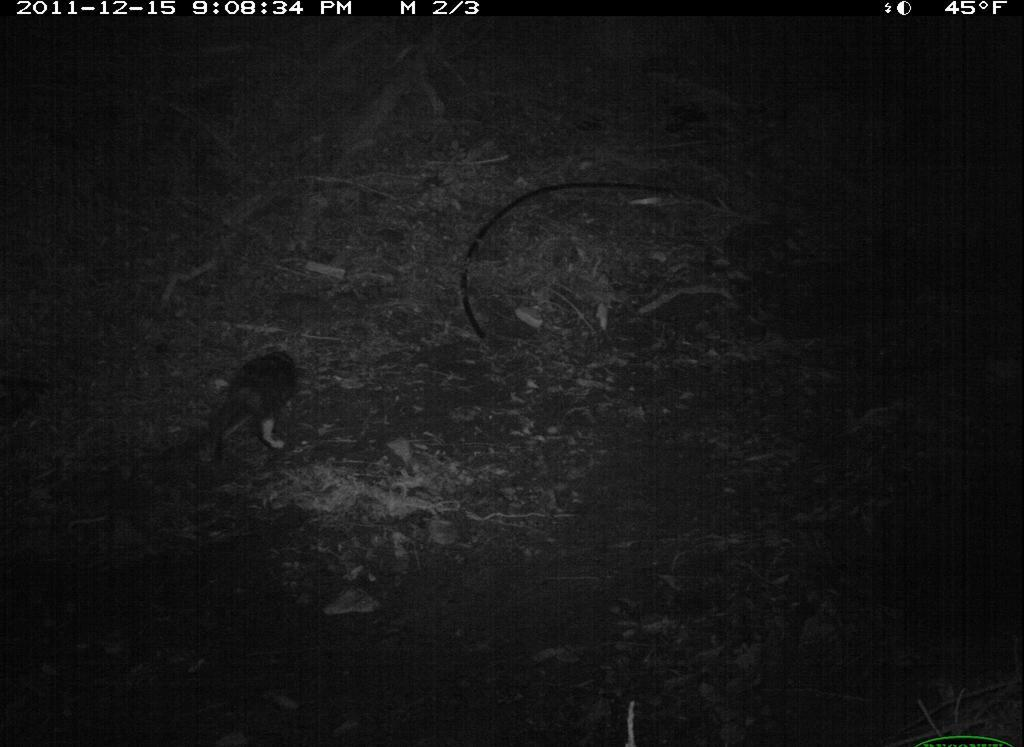cat: (186, 340, 314, 469)
